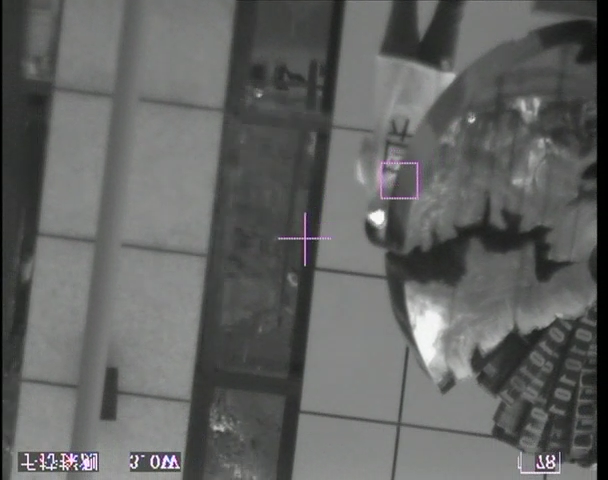my: (367, 207, 387, 227)
